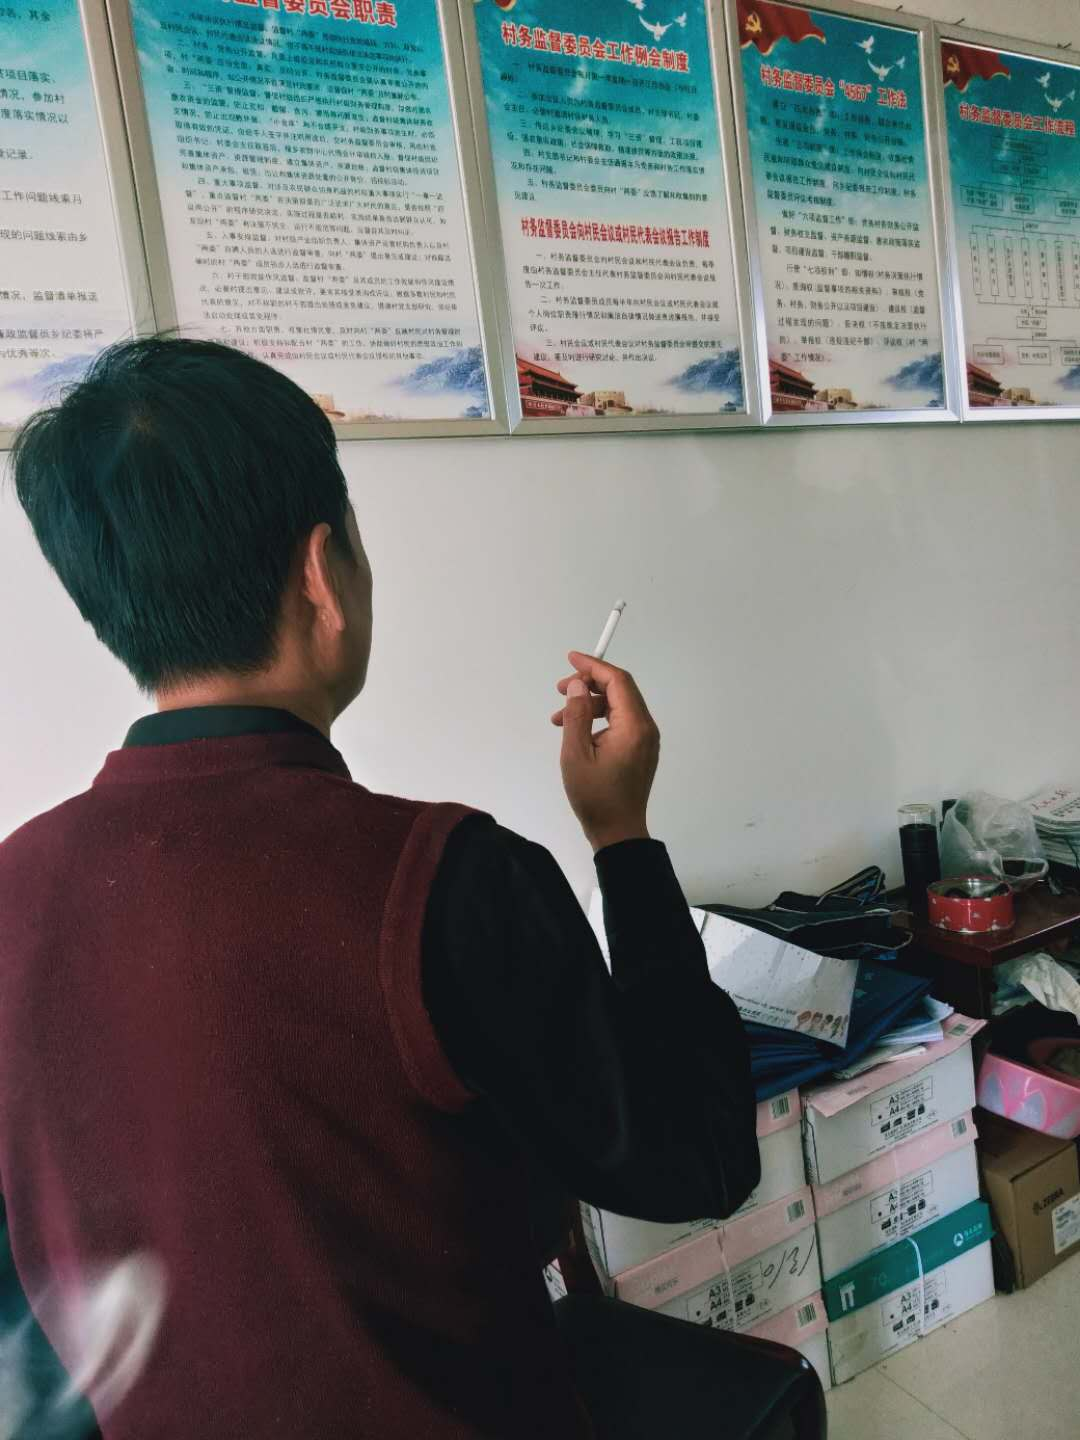smoke: (594, 596, 632, 660)
